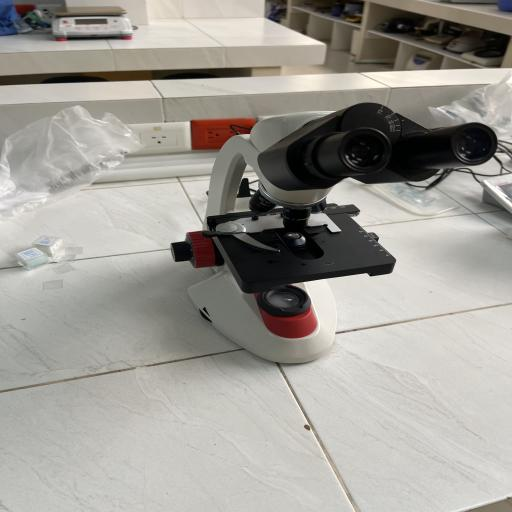Microscopio_Binocular: (156, 92, 512, 372)
